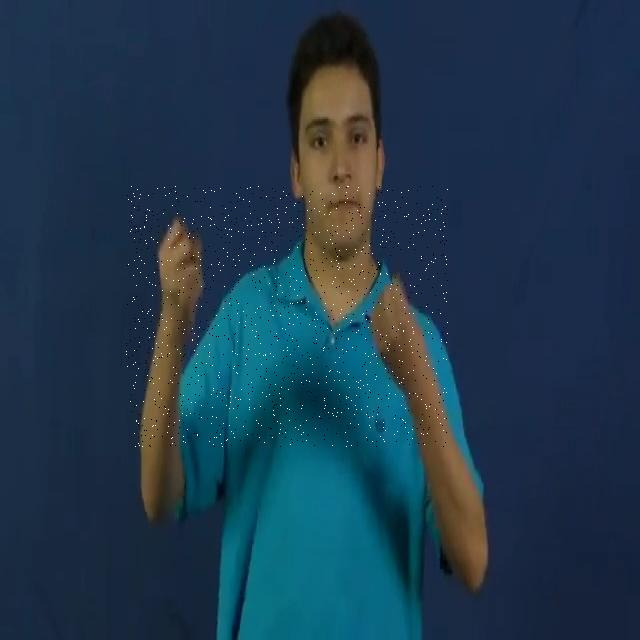drive: (126, 186, 448, 447)
